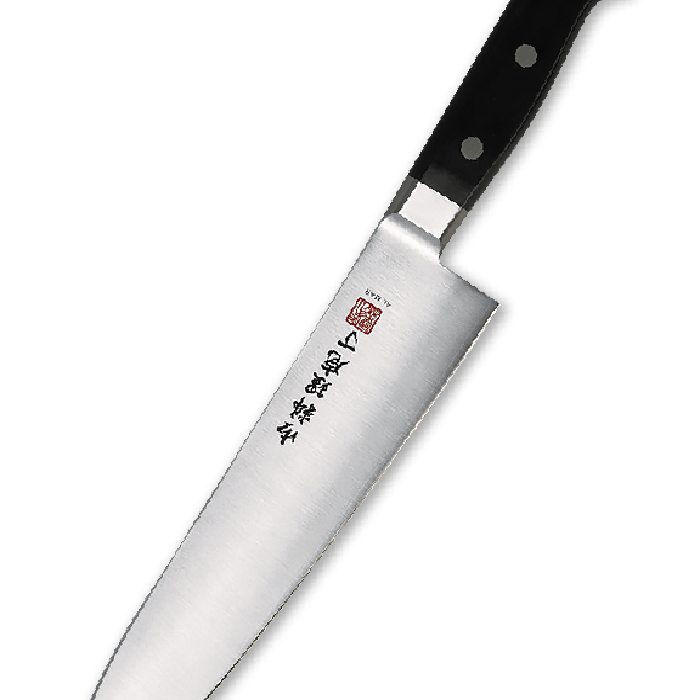knife: (90, 1, 605, 700)
